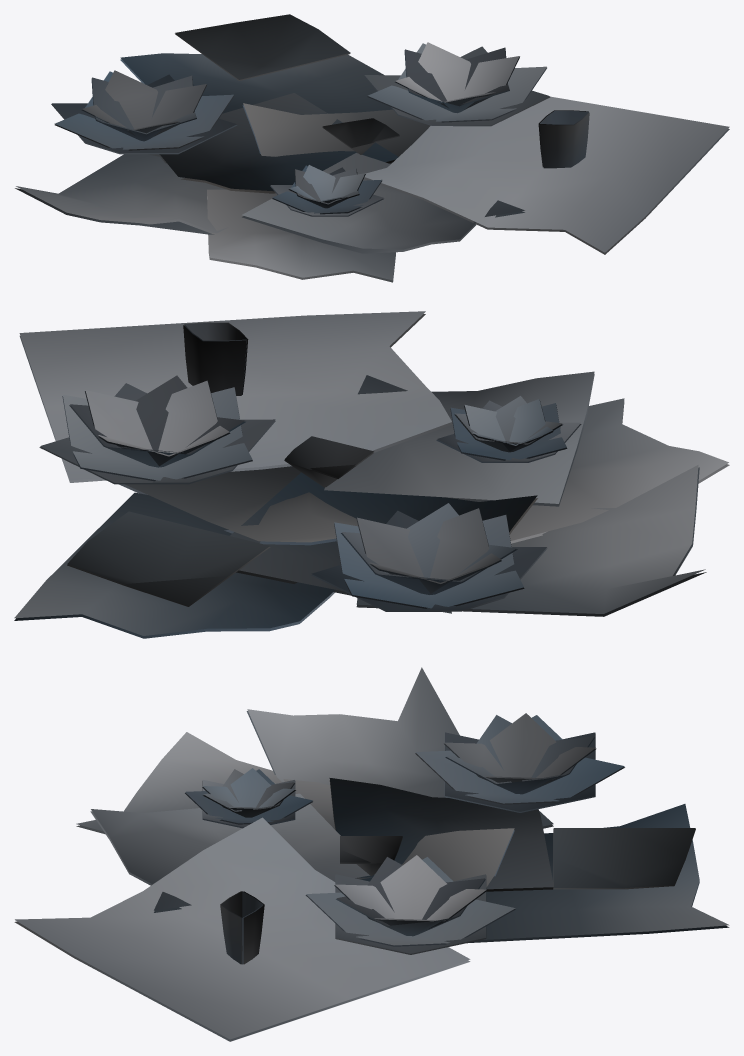
Rendered from LillyPads.fbx.
The picture shows the model from 3 angles, top to bottom: view 1: azimuth 30°, elevation 25°; view 2: azimuth 150°, elevation 25°; view 3: azimuth 270°, elevation 25°; orthographic projection. The views are drawn at different scales.
Visible parts, largest first — view 1: LillyPad; view 2: LillyPad; view 3: LillyPad.
Part boxes in pixels (<box>): LillyPad: <box>15,14,729,282</box>; LillyPad: <box>14,311,729,638</box>; LillyPad: <box>14,667,729,1041</box>.
Size of the model in its own units: 143 by 12.01 by 128.
